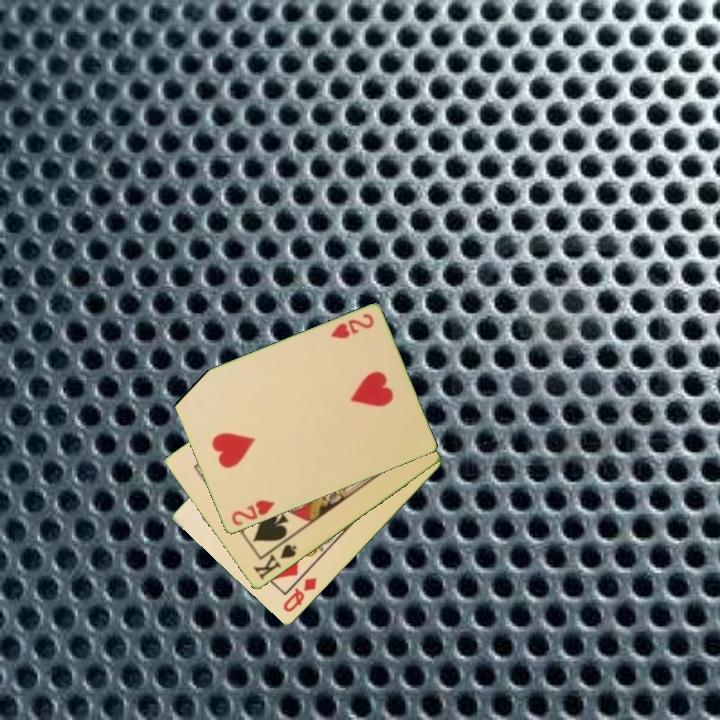2h: (228, 496, 278, 529), (327, 310, 377, 342)
Ks: (250, 536, 300, 583)
Qd: (279, 574, 320, 616)
